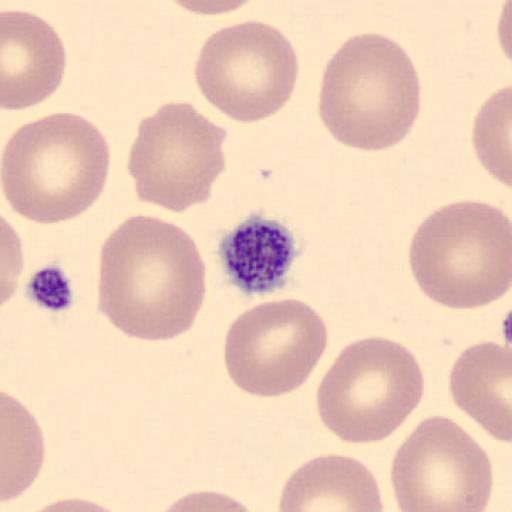Platelet: (216, 212, 302, 297)
RBC: (96, 212, 208, 346), (318, 31, 422, 154), (2, 110, 112, 226), (315, 334, 426, 447), (406, 198, 511, 312), (126, 101, 228, 214), (194, 18, 300, 124), (222, 296, 330, 399), (389, 413, 494, 511), (448, 339, 512, 445), (2, 8, 68, 110), (276, 453, 384, 512), (2, 390, 46, 504), (471, 81, 512, 191), (155, 488, 263, 512), (0, 214, 24, 312), (20, 495, 135, 512), (161, 0, 263, 17), (496, 0, 512, 65)
